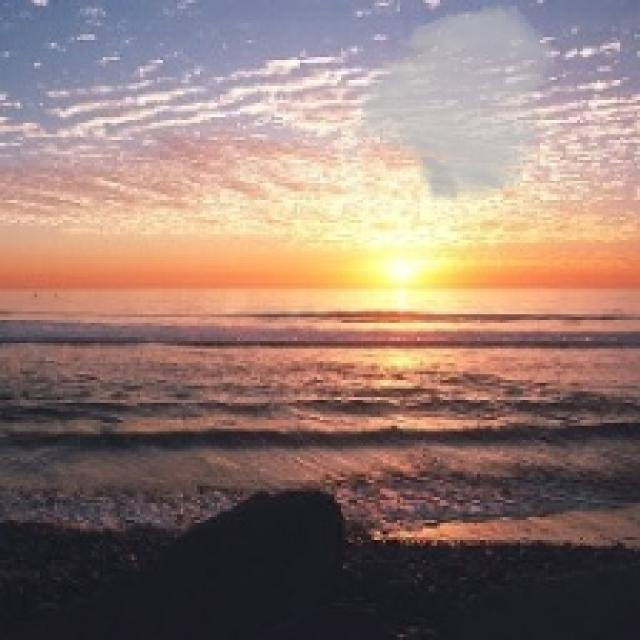smoke: (346, 3, 560, 206)
